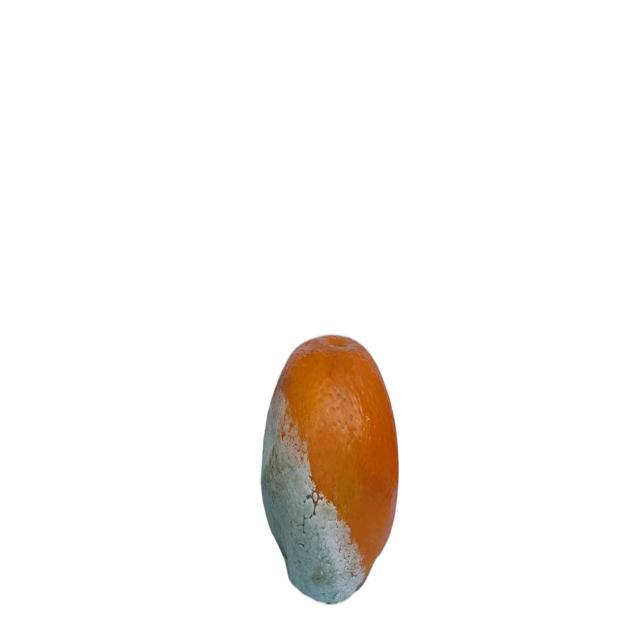rotten orange: (259, 332, 399, 605)
